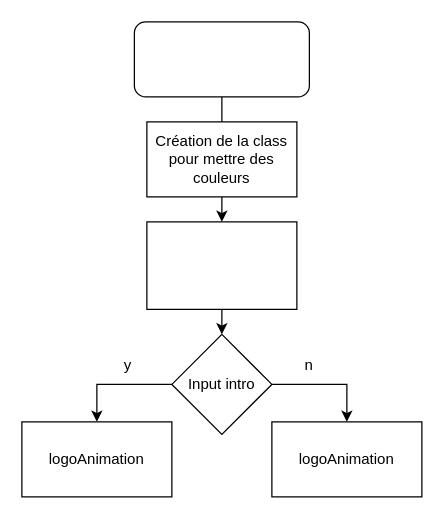
Image size: 444x519. Some labels were removed from this diagram. Each missing label, with the centre of its shape:
"Création de la fonction clearcmd() pour effacer le terminal" goes at (x=221, y=265).
"Importer toutes les bibliothèques nécessaires" goes at (x=221, y=59).
